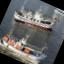fishing boat: (0, 21, 54, 64), (11, 0, 63, 37)
